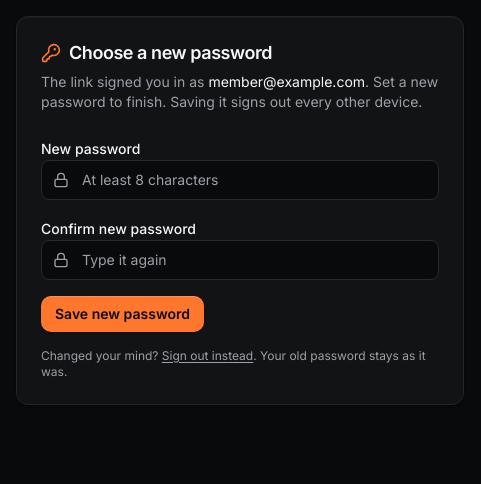
Scenario: ResetPasswordPage › shows the server error when the password is refused
The width and height of the screenshot is (481, 484).
In the password field labelled "New password": (240, 180) [41,160,439,200], type "correct-horse-battery"
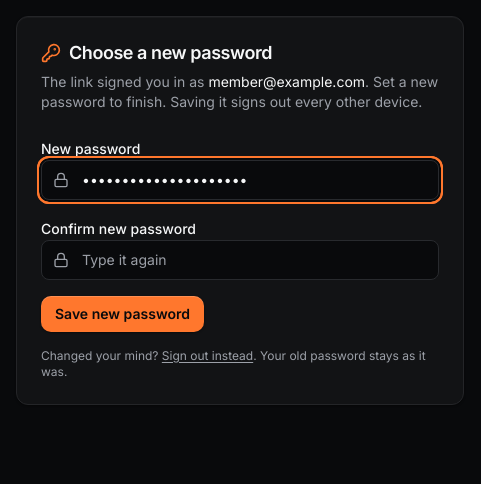
In the password field labelled "Confirm new password": (240, 260) [41,240,439,280], type "correct-horse-battery"
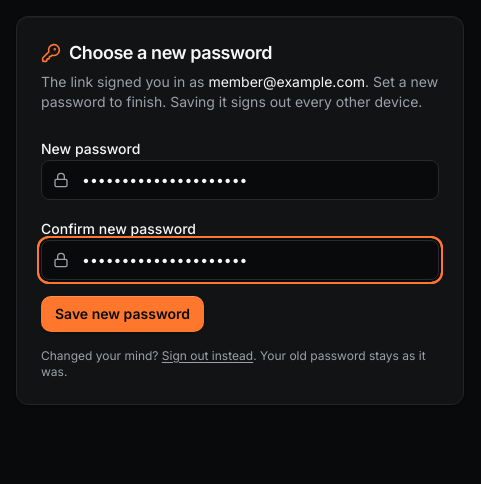
Click the button "Save new password": (122, 314) [41,296,204,332]
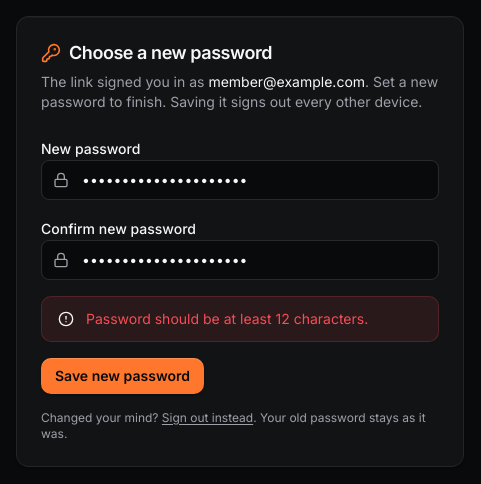
Expected: the message shows "at least 12 characters", [86,310,368,327]
